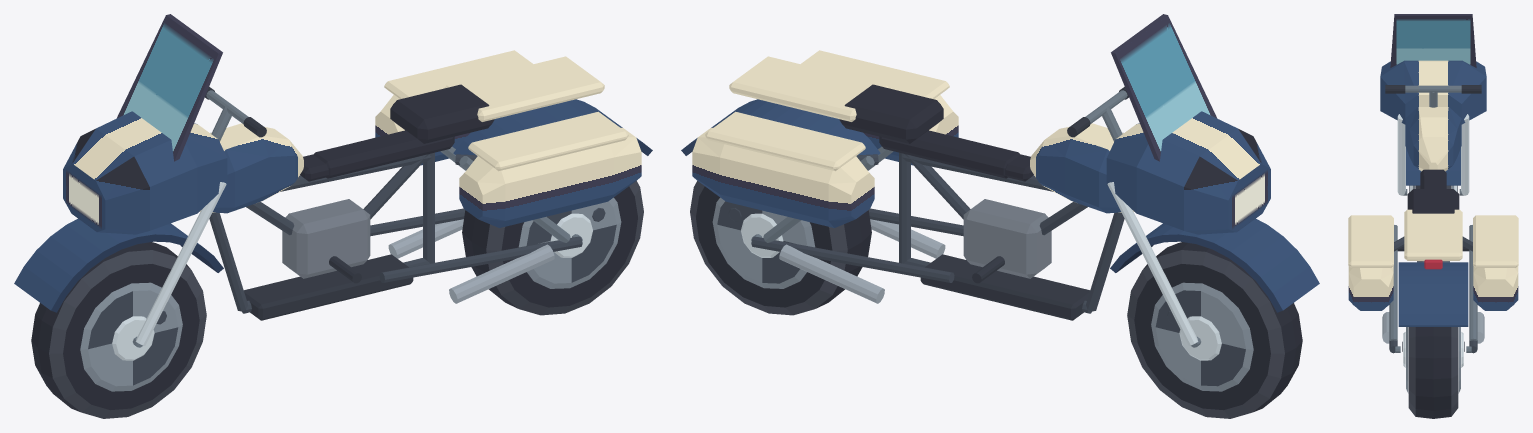
3 views of the same model, side by side, from view 1: azimuth 30°, elevation 25°; view 2: azimuth 150°, elevation 25°; view 3: azimuth 270°, elevation 25° (orthographic). The views are drawn at different scales.
Visible parts, largest first — view 1: Body_static, Wheel_F_tire_hub, Wheel_R_tire_hub; view 2: Body_static, Wheel_F_tire_hub, Wheel_R_tire_hub; view 3: Body_static, Wheel_R_tire_hub.
Part boxes in pixels (box(x1,y1,x2,y2)): Body_static: box(14, 14, 652, 347); Wheel_F_tire_hub: box(31, 242, 206, 418); Wheel_R_tire_hub: box(462, 181, 643, 315); Body_static: box(681, 14, 1319, 347); Wheel_F_tire_hub: box(1127, 242, 1302, 418); Wheel_R_tire_hub: box(690, 181, 871, 315); Body_static: box(1348, 14, 1518, 353); Wheel_R_tire_hub: box(1402, 327, 1464, 418).
Size of the model in its own units: 54.03 by 30.96 by 17.83.
1 material, 1 textured.
